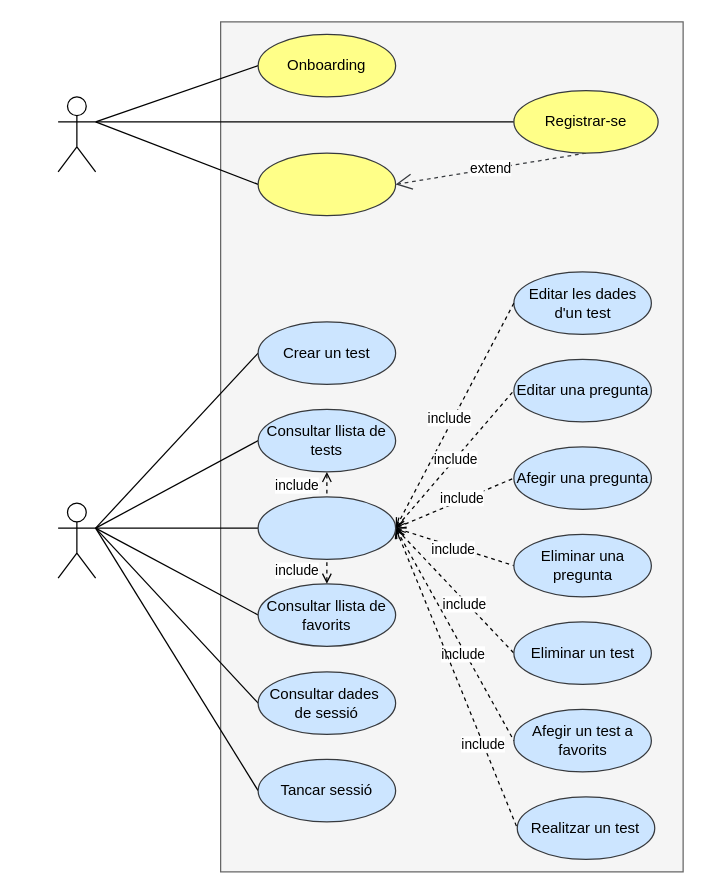
Some shapes in this 705 by 894 pixel diagram are drawn without their labels. Here are the shapes that lost their labels. From the top down, the centre of each, then its label:
the point at 76,134: Usuari sense autenticar
the point at 326,184: Login
the point at 76,540: Usuari autenticat
the point at 326,527: Consultar dades d'un test
